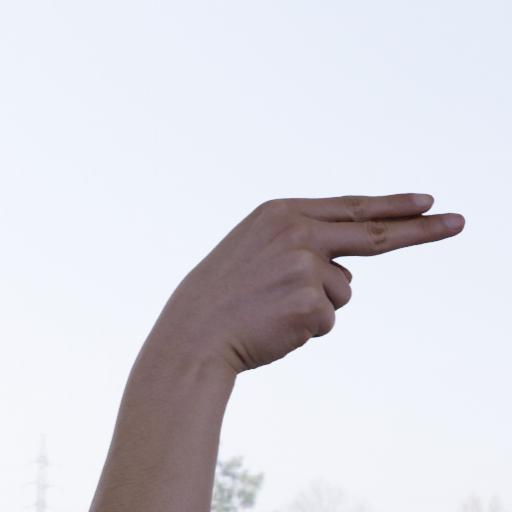H: (114, 186, 470, 401)
